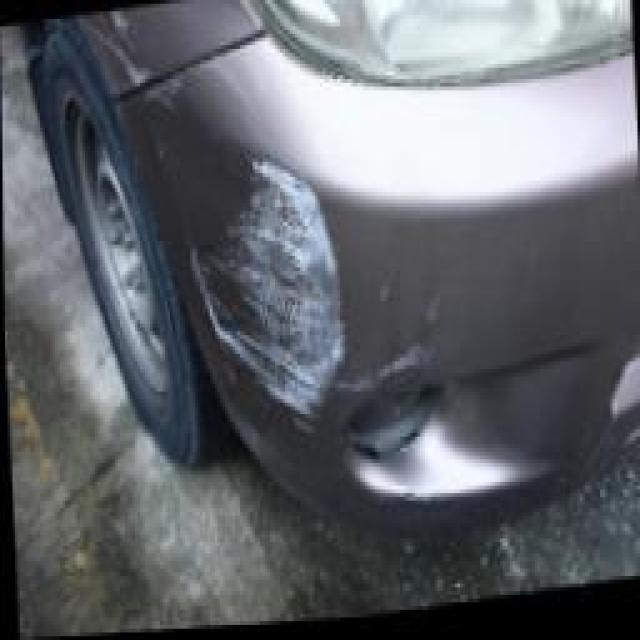Bumper: (152, 45, 467, 438)
Fender: (68, 0, 249, 91)
